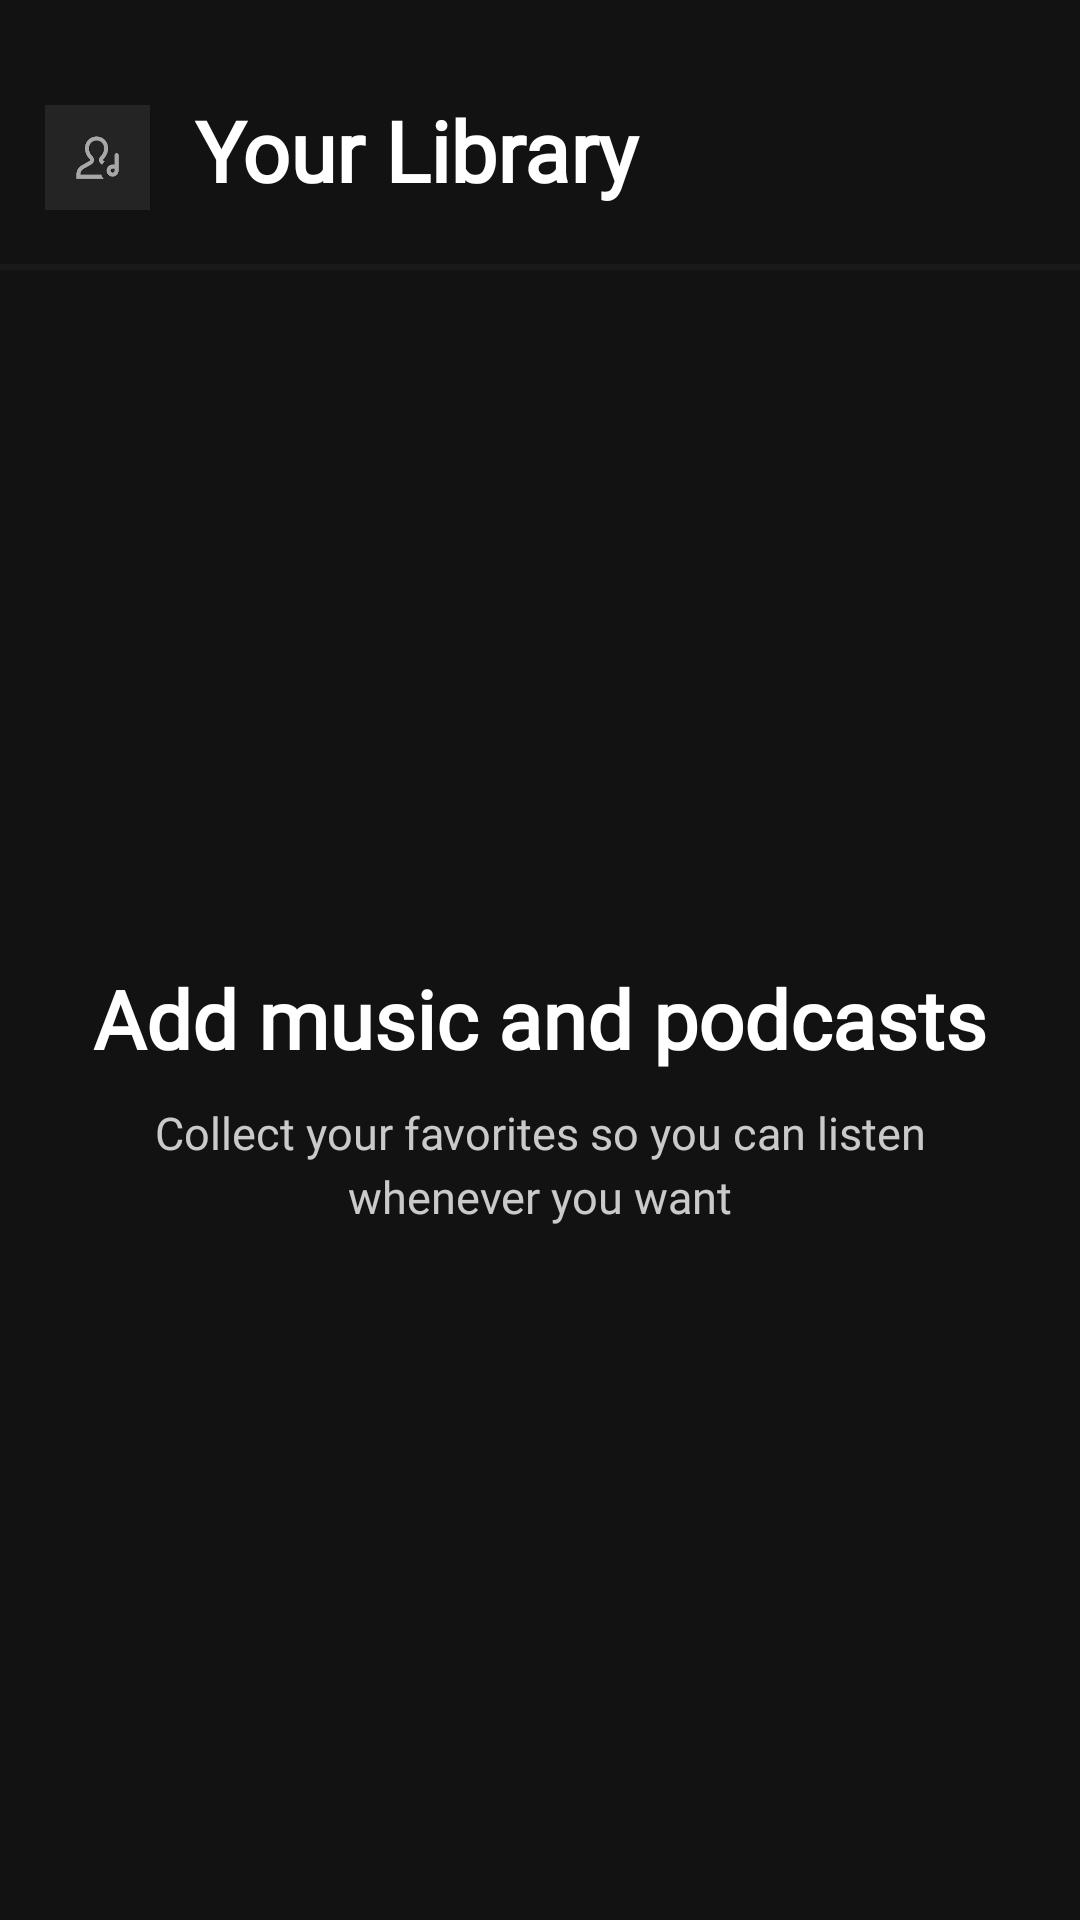

Where icons sit on this 1080×1920 app screen, as (x1, y1, x2, y2):
deafault artist listitem: (45, 105, 150, 210)
